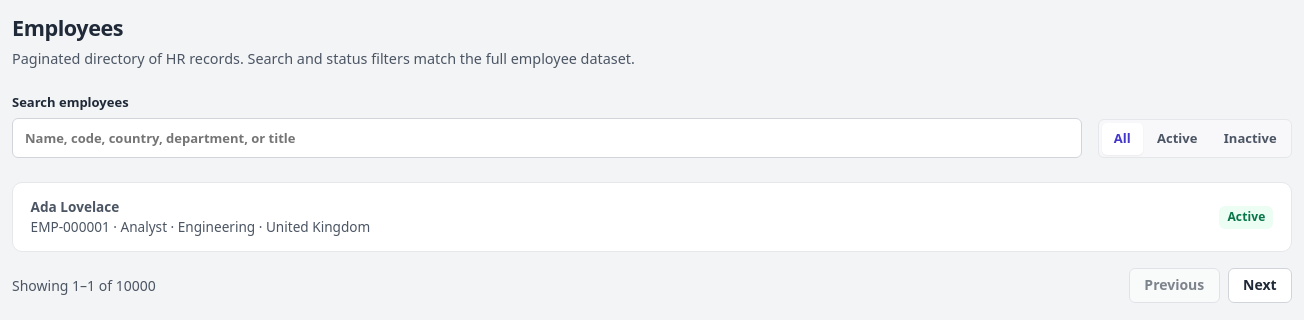
Test: pagination uses the filtered API total
Expected: the text "Showing 1–1 of 10000" is shown, [12,275,156,296]
Expected: the button "Next" is enabled, [1228,268,1292,303]
Type "Ada" into the search field labelled "Search employees".
click(547, 138); type("Ada")  # box [12,118,1082,158]
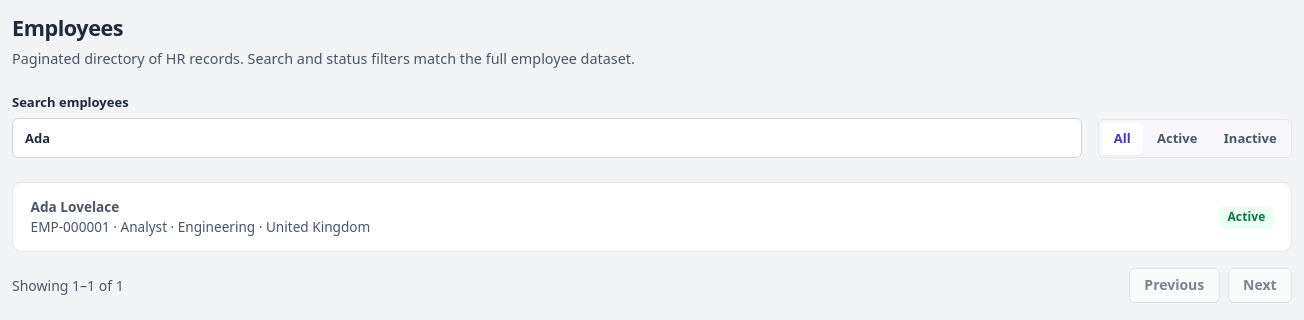
Expected: the text "Showing 1–1 of 1" is shown, [12,275,124,296]
Expected: the button "Next" is disabled, [1228,268,1292,303]
